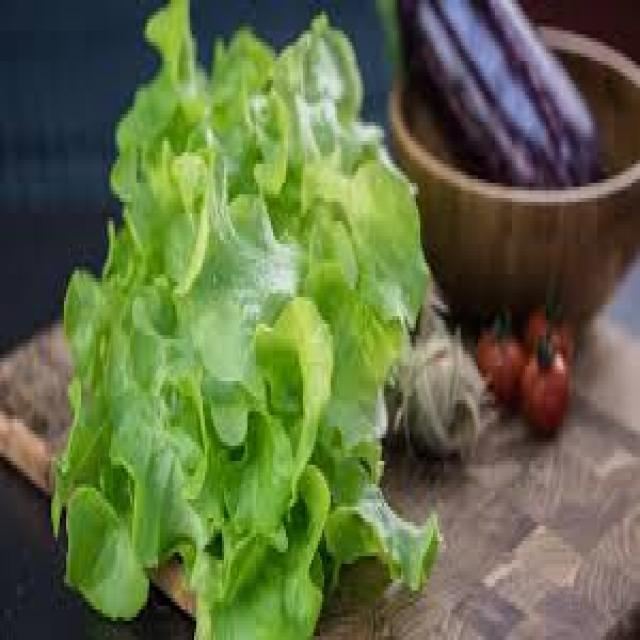Lettuce: (43, 0, 452, 640)
